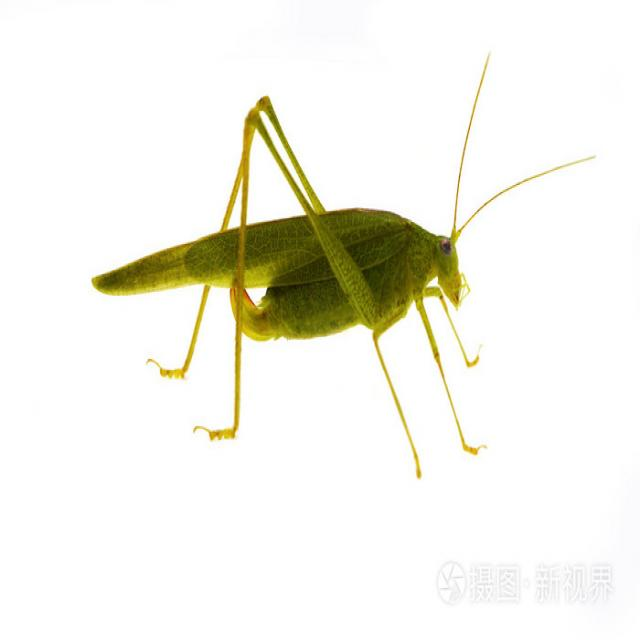ZhaMeng: (92, 92, 536, 474)
